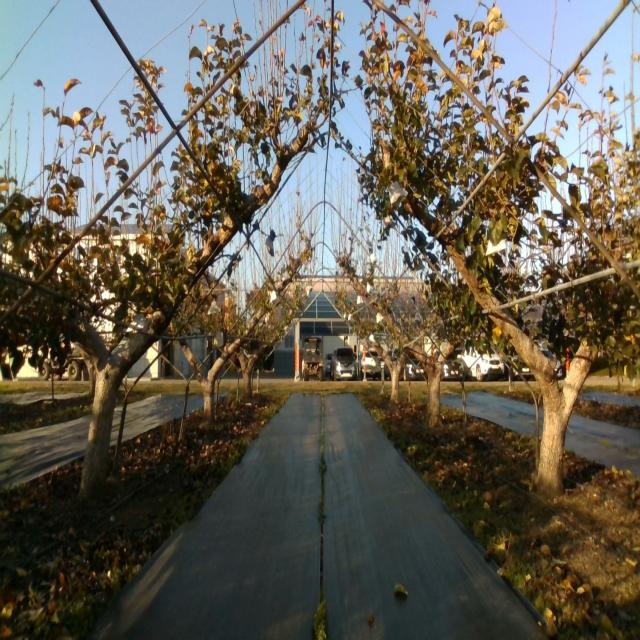pearbags: (389, 180, 408, 205), (127, 312, 146, 334)
